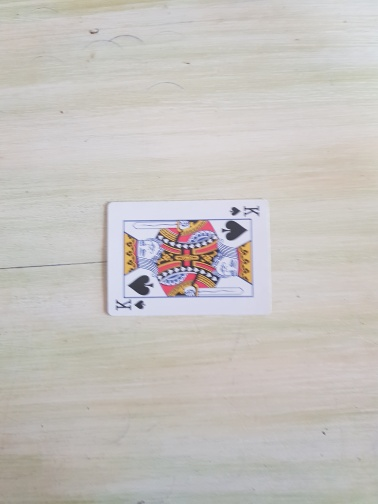king: (105, 198, 272, 317)
